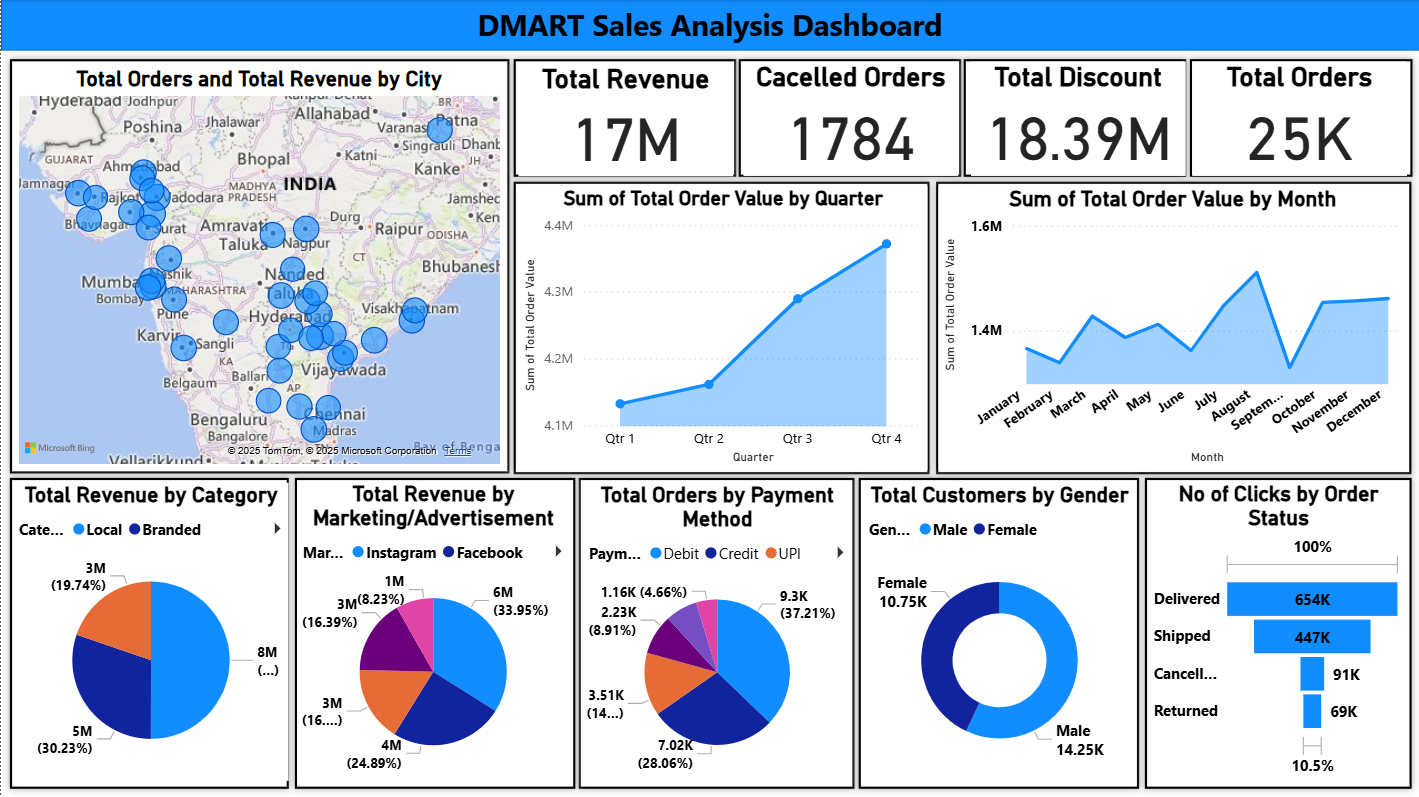

The dashboard page shown, as its layout file describes it:
{"tool":"powerbi","page":{"name":"Page 1","canvas":[1280,720],"ordinal":0},"visuals":[{"type":"shape","box":[0,0,1280.3,46.7],"z":0},{"type":"textbox","box":[42.5,0,1192.5,46.7],"z":1000},{"type":"shape","box":[0,46.7,466.6,389.7],"z":2000},{"type":"shape","box":[454.2,156.4,391.1,279.9],"z":3000},{"type":"shape","box":[835.7,156.4,444.6,279.9],"z":4000},{"type":"shape","box":[454.2,46.7,216.8,122.1],"z":5000},{"type":"shape","box":[0,424,267.6,296.4],"z":6000},{"type":"shape","box":[657.3,46.7,216.8,122.1],"z":7000},{"type":"shape","box":[860.4,46.7,216.8,122.1],"z":8000},{"type":"shape","box":[1063.5,46.7,216.8,122.1],"z":9000},{"type":"shape","box":[513.2,424,264.8,296.4],"z":10000},{"type":"shape","box":[765.7,424,269,296.4],"z":11000},{"type":"shape","box":[1023.7,424,256.6,296.4],"z":12000},{"type":"shape","box":[256.6,424,269,296.4],"z":13000},{"type":"card","title":"Total Revenue","fields":{"Values":["Sum(Dmart+Dataset_Tableau.Total Order Value)"]},"box":[466.5,56.9,193.5,102.7],"z":14000},{"type":"card","title":"Cancelled Orders","fields":{"Values":["CountNonNull(Dmart+Dataset_Tableau.Cancellation Date)"]},"box":[670.9,57,189.5,100],"z":15000},{"type":"card","title":"Total Discount","fields":{"Values":["Sum(Dmart+Dataset_Tableau.Discount Price)"]},"box":[874.1,56.3,193.5,102.9],"z":16000},{"type":"card","title":"Total Orders","fields":{"Values":["CountNonNull(Dmart+Dataset_Tableau.Order ID)"]},"box":[1074.4,56.3,193.5,102.9],"z":17000},{"type":"map","title":"Total Orders and Total Revenue by City","fields":{"Category":["Dmart+Dataset_Tableau.City"],"Size":["Sum(Dmart+Dataset_Tableau.Total Order Value)"]},"box":[11.3,60.4,443,363.5],"z":18000},{"type":"stackedAreaChart","fields":{"Y":["Sum(Dmart+Dataset_Tableau.Total Order Value)"],"Category":["Dmart+Dataset_Tableau.Order Date.Variation.Date Hierarchy.Quarter"]},"box":[466.6,168.8,369.1,255.2],"z":19000},{"type":"areaChart","fields":{"Category":["Dmart+Dataset_Tableau.Month"],"Y":["Sum(Dmart+Dataset_Tableau.Total Order Value)"]},"box":[845.3,168.8,422.6,255.2],"z":20000},{"type":"donutChart","title":"Total Customers by Gender","fields":{"Y":["CountNonNull(Dmart+Dataset_Tableau.Customer ID)"],"Category":["Dmart+Dataset_Tableau.Gender"]},"box":[778,436.4,245.6,269],"z":21000},{"type":"funnel","title":"No of Clicks by Order Status","fields":{"Y":["Sum(Dmart+Dataset_Tableau.No of Clicks)"],"Category":["Dmart+Dataset_Tableau.Order Status"]},"box":[1034.7,435,234.6,270.3],"z":22000},{"type":"pieChart","title":"Total Orders by Payment Method","fields":{"Y":["CountNonNull(Dmart+Dataset_Tableau.Order ID)"],"Category":["Dmart+Dataset_Tableau.Payment Method"]},"box":[525.6,436.4,241.5,269],"z":23000},{"type":"pieChart","title":"Total Revenue by Category","fields":{"Y":["Sum(Dmart+Dataset_Tableau.Total Order Value)"],"Category":["Dmart+Dataset_Tableau.Category"]},"box":[11,436.4,248.4,269],"z":24000},{"type":"pieChart","title":"Total Revenue by Marketing/Advertisement","fields":{"Y":["Sum(Dmart+Dataset_Tableau.Total Order Value)"],"Category":["Dmart+Dataset_Tableau.Marketing/Advertisement"]},"box":[267.6,435,245.6,270.3],"z":25000}]}

Visuals, with their boxes in screenshot pixels (x1, y1, x2, y2), scaled from the page's 1280x720 canvas onto the 1419x797 screenshot:
shape: x1=0 y1=0 x2=1418 y2=52
textbox: x1=47 y1=0 x2=1369 y2=52
shape: x1=0 y1=52 x2=517 y2=483
shape: x1=504 y1=173 x2=937 y2=483
shape: x1=926 y1=173 x2=1418 y2=483
shape: x1=504 y1=52 x2=744 y2=187
shape: x1=0 y1=469 x2=297 y2=796
shape: x1=729 y1=52 x2=969 y2=187
shape: x1=954 y1=52 x2=1194 y2=187
shape: x1=1179 y1=52 x2=1418 y2=187
shape: x1=569 y1=469 x2=862 y2=796
shape: x1=849 y1=469 x2=1147 y2=796
shape: x1=1135 y1=469 x2=1418 y2=796
shape: x1=284 y1=469 x2=583 y2=796
"Total Revenue" card: x1=517 y1=63 x2=732 y2=177
"Cancelled Orders" card: x1=744 y1=63 x2=954 y2=174
"Total Discount" card: x1=969 y1=62 x2=1184 y2=176
"Total Orders" card: x1=1191 y1=62 x2=1406 y2=176
"Total Orders and Total Revenue by City" map: x1=13 y1=67 x2=504 y2=469
stackedAreaChart - Sum(Dmart+Dataset_Tableau.Total Order Value) x Dmart+Dataset_Tableau.Order Date.Variation.Date Hierarchy.Quarter: x1=517 y1=187 x2=926 y2=469
areaChart - Dmart+Dataset_Tableau.Month x Sum(Dmart+Dataset_Tableau.Total Order Value): x1=937 y1=187 x2=1406 y2=469
"Total Customers by Gender" donutChart: x1=862 y1=483 x2=1135 y2=781
"No of Clicks by Order Status" funnel: x1=1147 y1=482 x2=1407 y2=781
"Total Orders by Payment Method" pieChart: x1=583 y1=483 x2=850 y2=781
"Total Revenue by Category" pieChart: x1=12 y1=483 x2=288 y2=781
"Total Revenue by Marketing/Advertisement" pieChart: x1=297 y1=482 x2=569 y2=781
